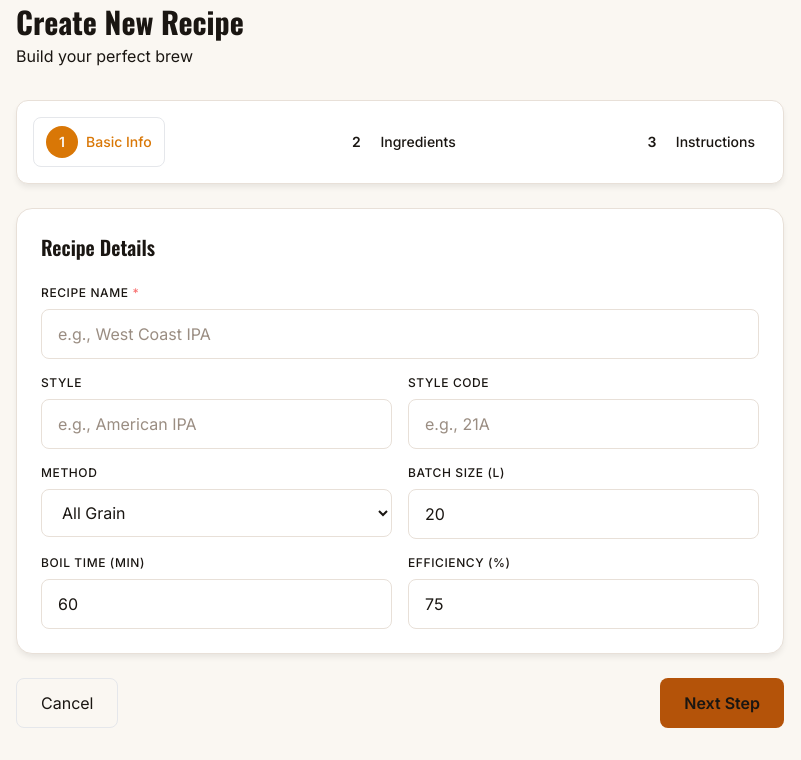
Test case: RecipeForm Page › Dynamic Ingredients › adds a grain row when clicking add grain
(page scrolled)
Step 1. Click the button "Next Step" → coordinates (722, 703), box top-left (660, 678), bottom-right (784, 728)
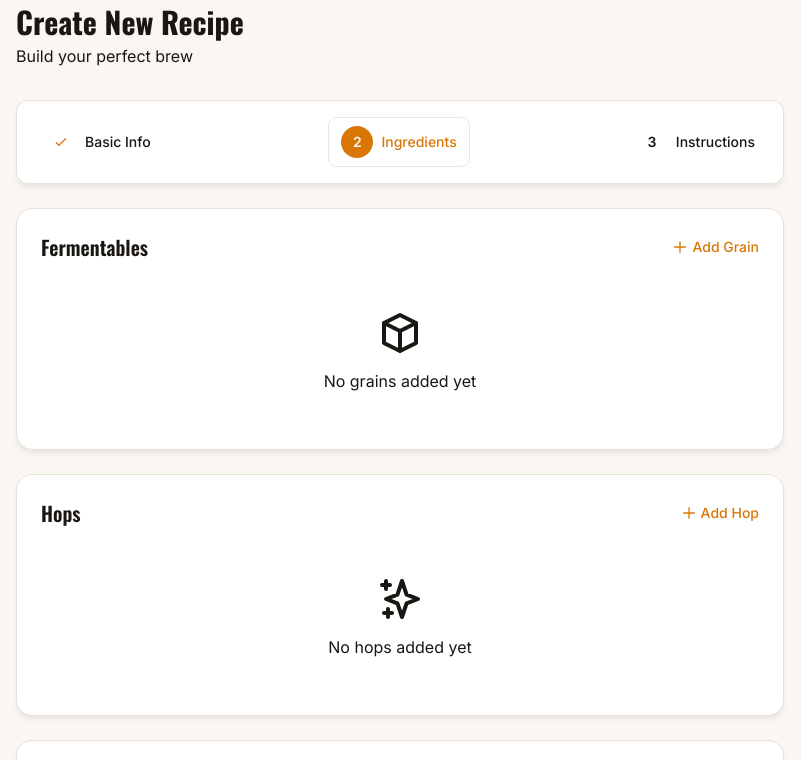
Step 2. Click the button "Add Grain" → coordinates (716, 247), box top-left (672, 237), bottom-right (759, 257)
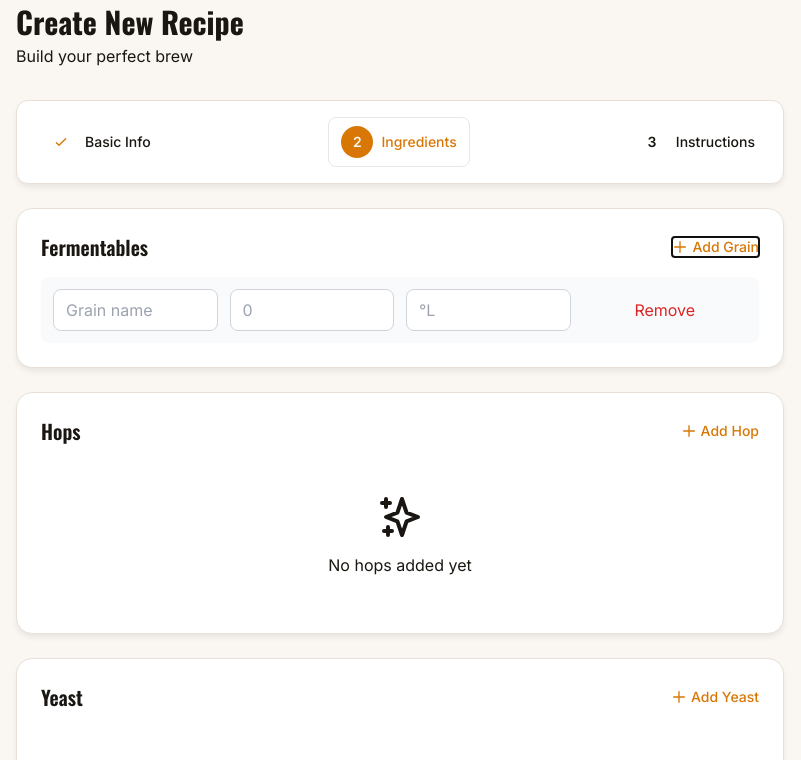
Result: the field labelled "Grain name" is shown at top-left (53, 289), bottom-right (218, 331)
Result: the number field named "Weight" is shown at top-left (230, 289), bottom-right (394, 331)
